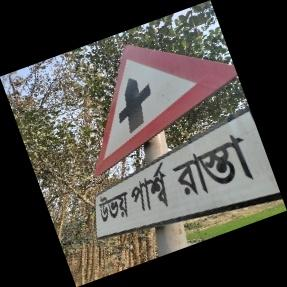Crossroad: (88, 34, 282, 240)
